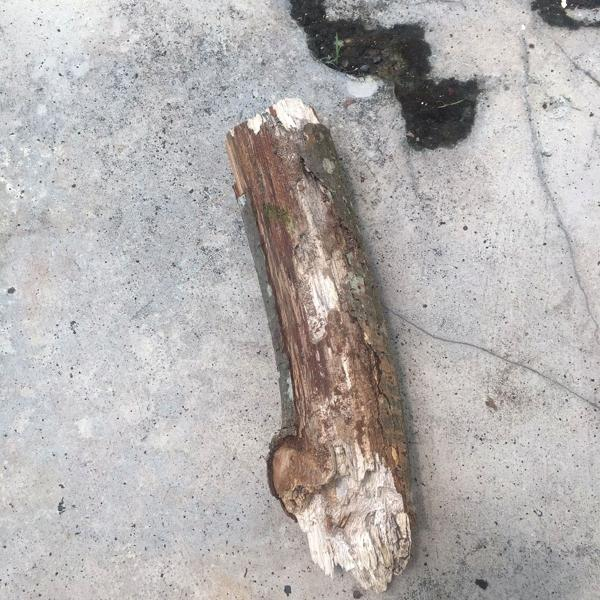Organik: (216, 84, 464, 600)
